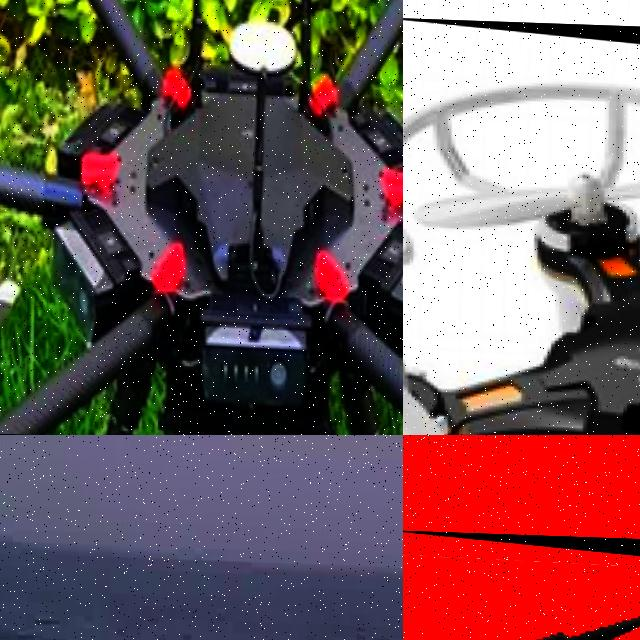drone: (0, 0, 403, 435), (403, 17, 640, 435), (403, 529, 640, 640)
